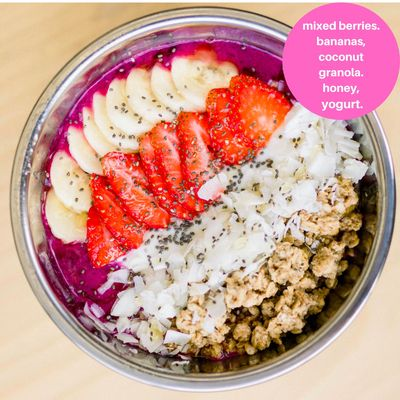sushi: (9, 20, 383, 391)
